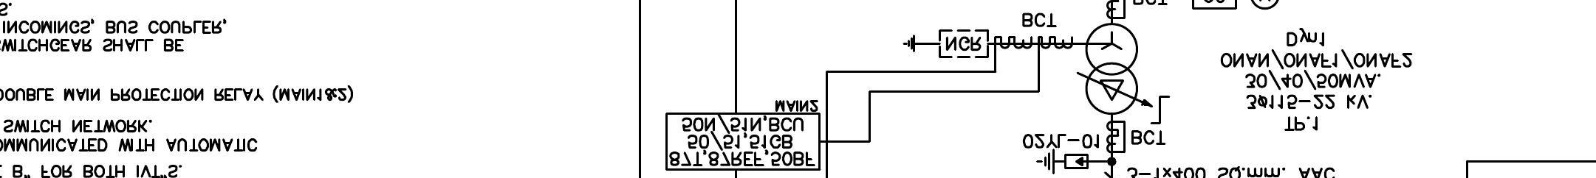11522_tx_dyn1: (1085, 22, 1139, 115)
115_la: (1035, 147, 1089, 175)
NGR_future: (902, 28, 989, 59)
